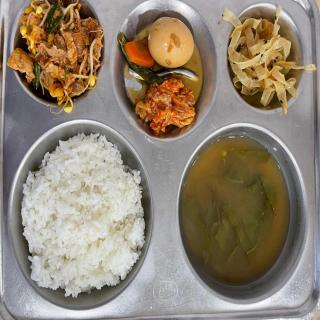Nasi: (27, 142, 146, 300)
